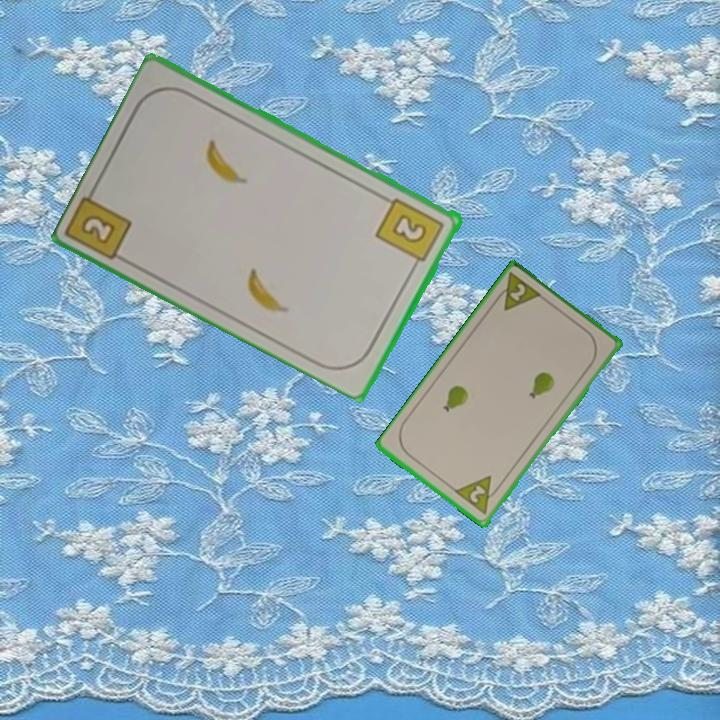2b: (373, 194, 448, 272), (78, 211, 119, 247)
2p: (489, 270, 545, 314), (452, 472, 505, 518)
